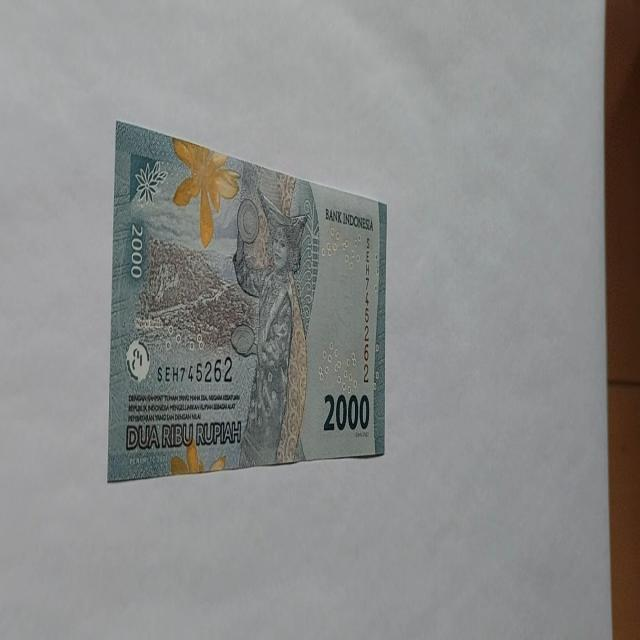dua ribu rupiah: (106, 121, 388, 481), (230, 187, 310, 468), (171, 135, 241, 249)
